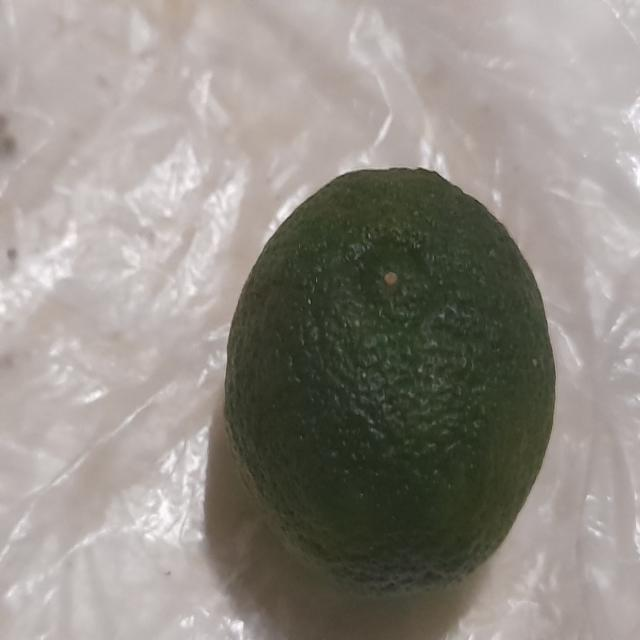heathy: (220, 154, 564, 608)
